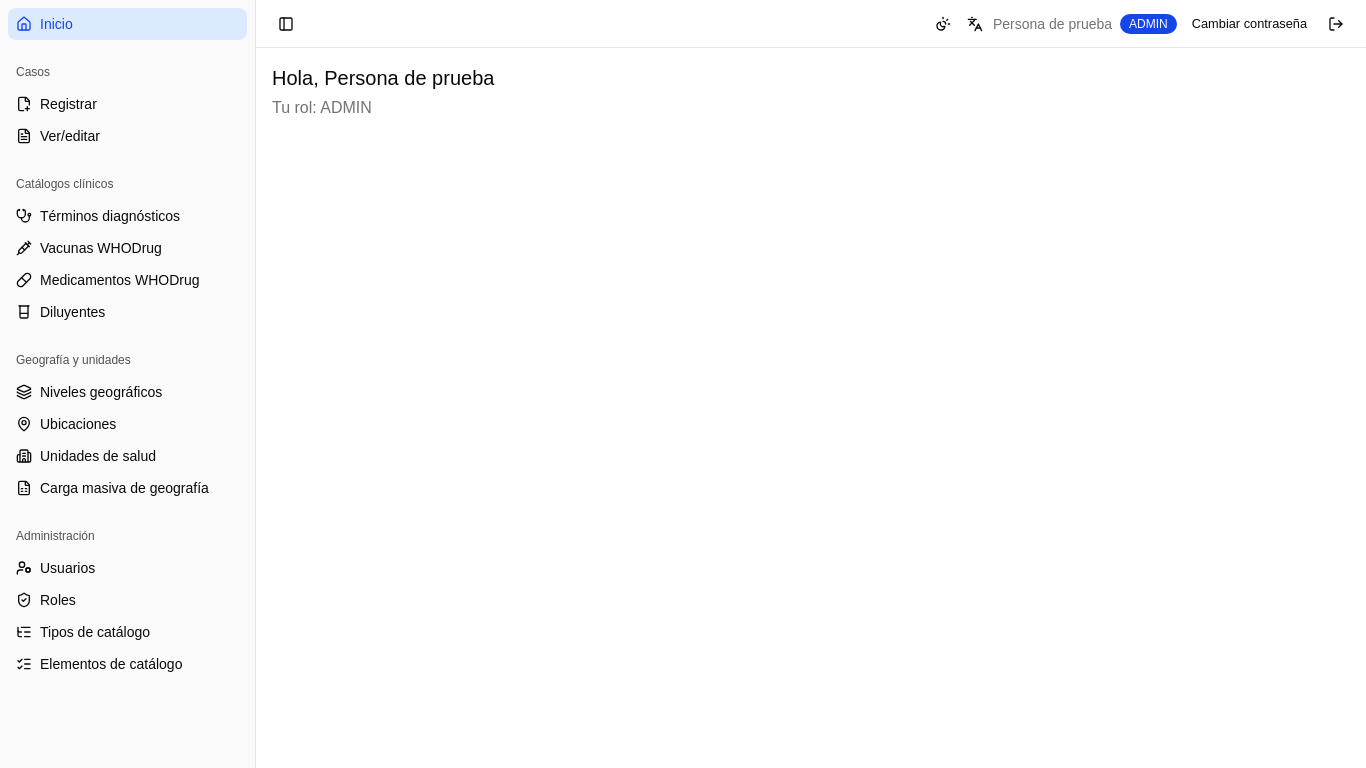
Ruta /geo-locations — navegación desde el sidebar › el enlace del sidebar navega a la pantalla de ubicaciones
Click the link "Ubicaciones": (66, 424) [16,416,116,432]
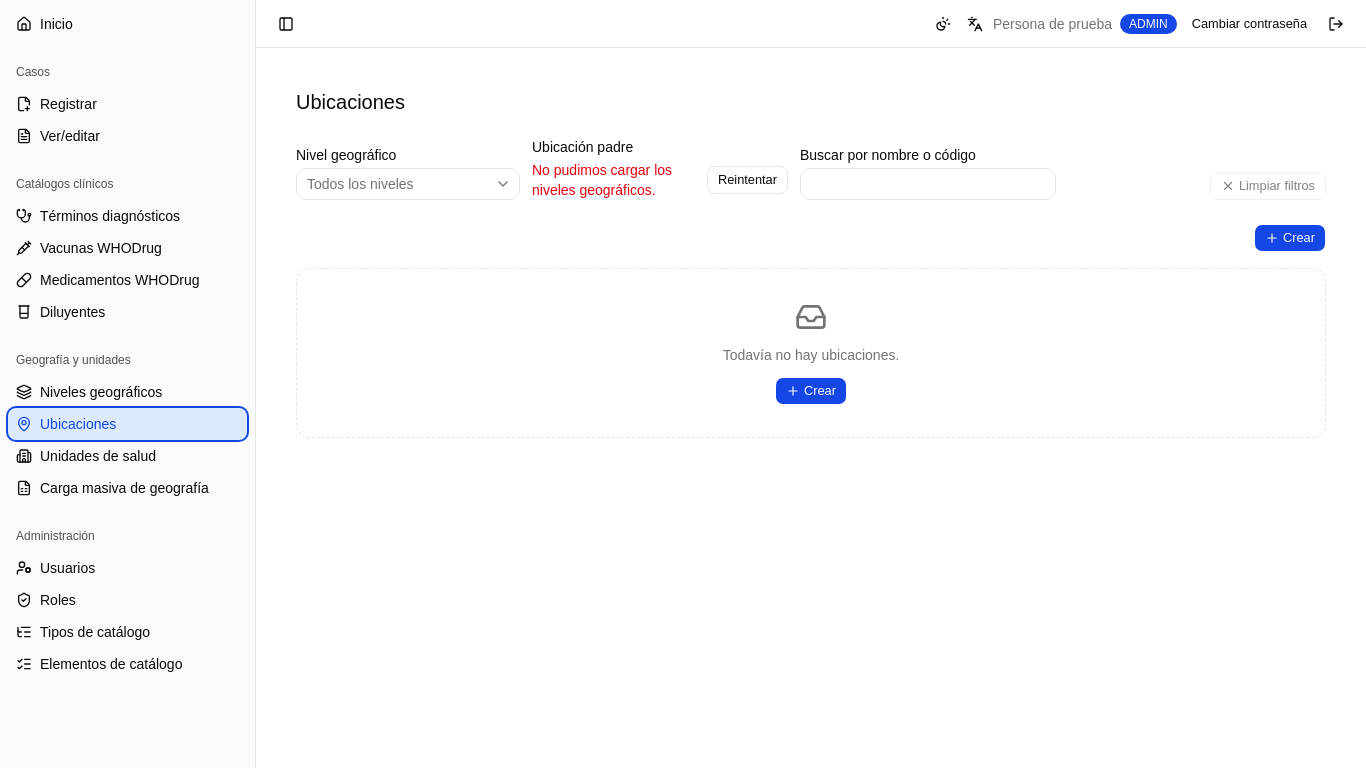
Check: the heading "Ubicaciones" is shown, box [296,91,405,113]
